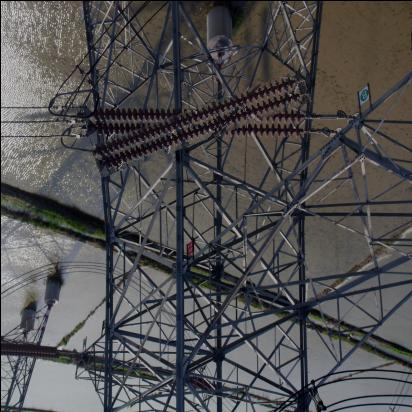insulator: (90, 89, 313, 160)
